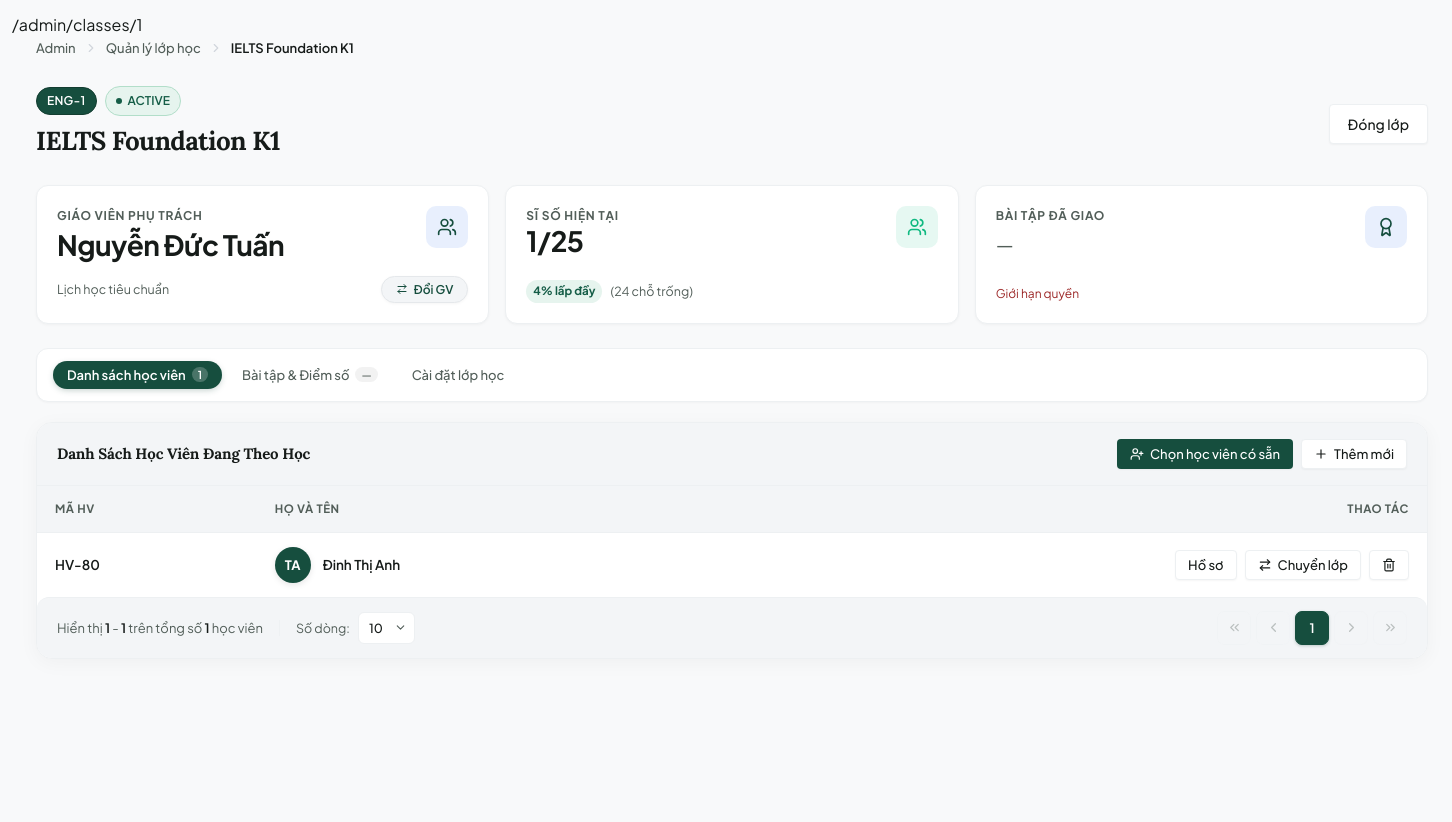
Test: shows permission restrictions and an unknown KPI for 403 rather than empty data
Expected: the heading "IELTS Foundation K1" is shown, top-left (36, 120), bottom-right (280, 161)
Click the button "Bài tập & Điểm số —". click: (310, 374)
box: top-left (228, 360), bottom-right (392, 388)
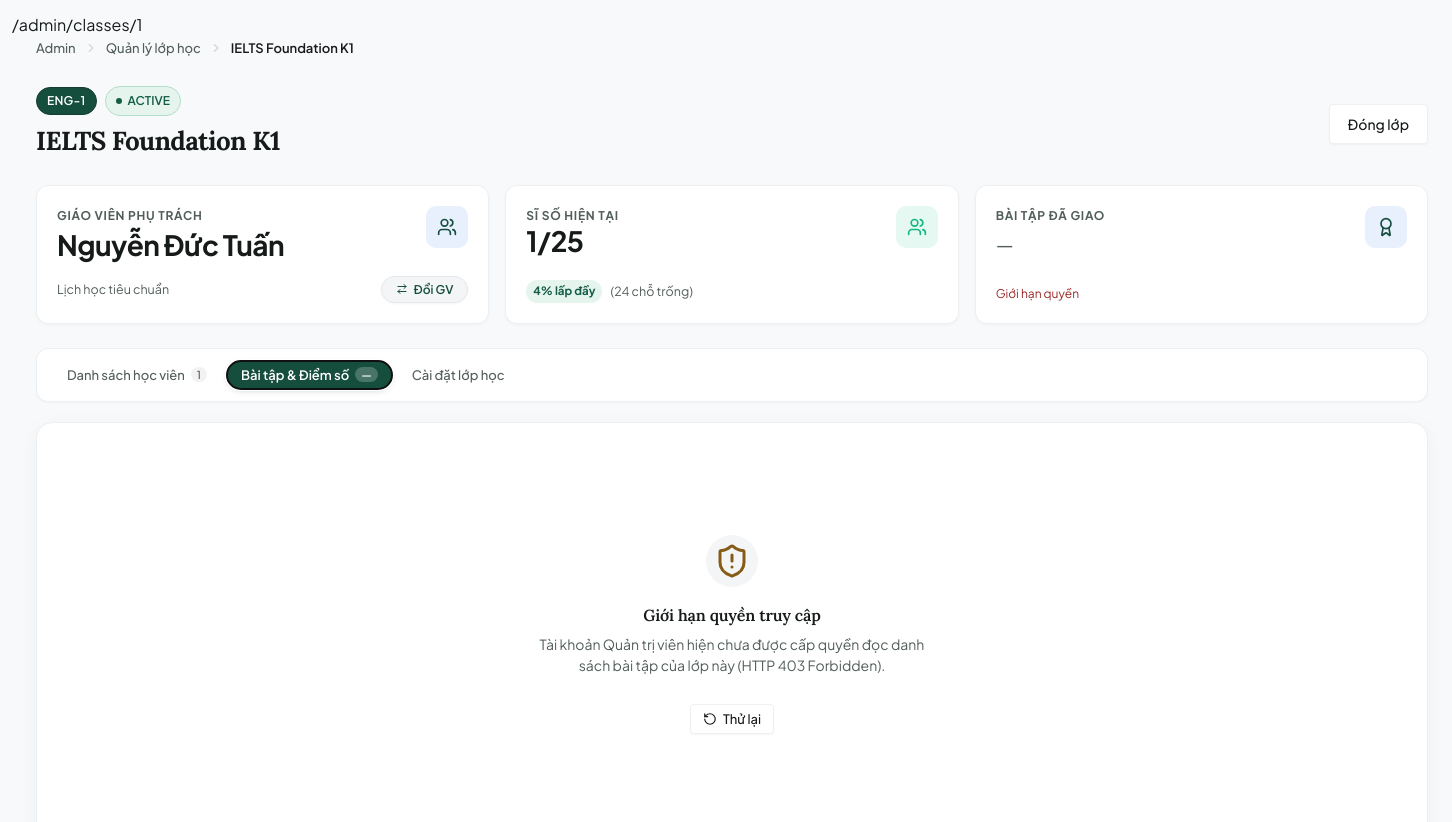
Expected: the element with class "adm-kpi-value" reads "—", top-left (996, 231), bottom-right (1013, 256)
Expected: the heading "Giới hạn quyền truy cập" is shown, top-left (643, 602), bottom-right (821, 628)
